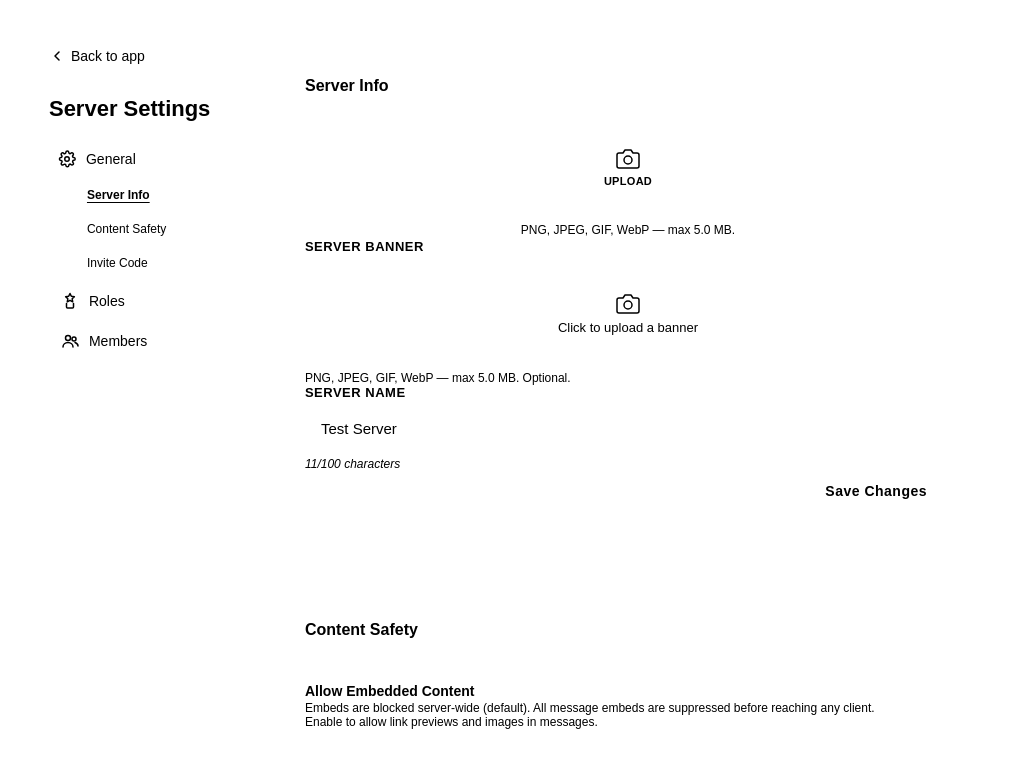
Test case: "Set up verification" from the save dialog › asks to discard unsaved edits first, with the dialog still up behind the question
The width and height of the screenshot is (1024, 768).
Replace the text in the field with placeholder "My Awesome Server" with "Renamed Server" at {"x": 644, "y": 429}, box x1=305 y1=408 x2=983 y2=449
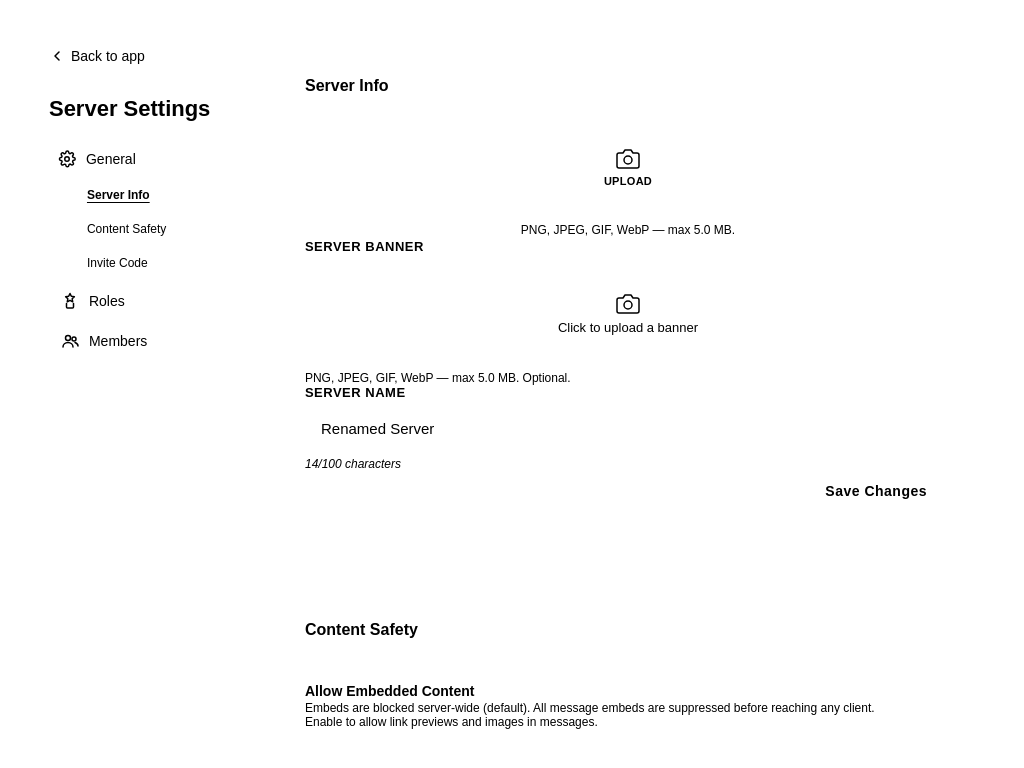
Click the button "Save Changes" at {"x": 876, "y": 491}, box x1=801 y1=471 x2=951 y2=511
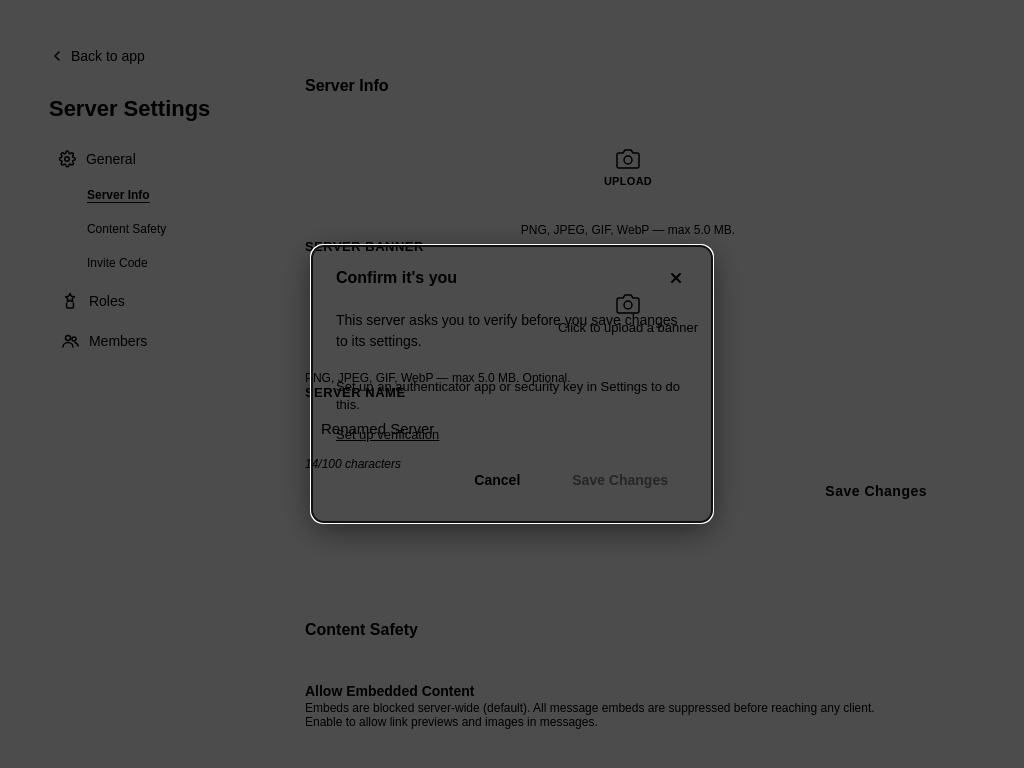
Check: the text "Set up an authenticator app or security key in Settings to do this." is shown, box x1=336 y1=378 x2=688 y2=414
Click the button "Set up verification" at {"x": 388, "y": 434}, box x1=336 y1=422 x2=439 y2=446
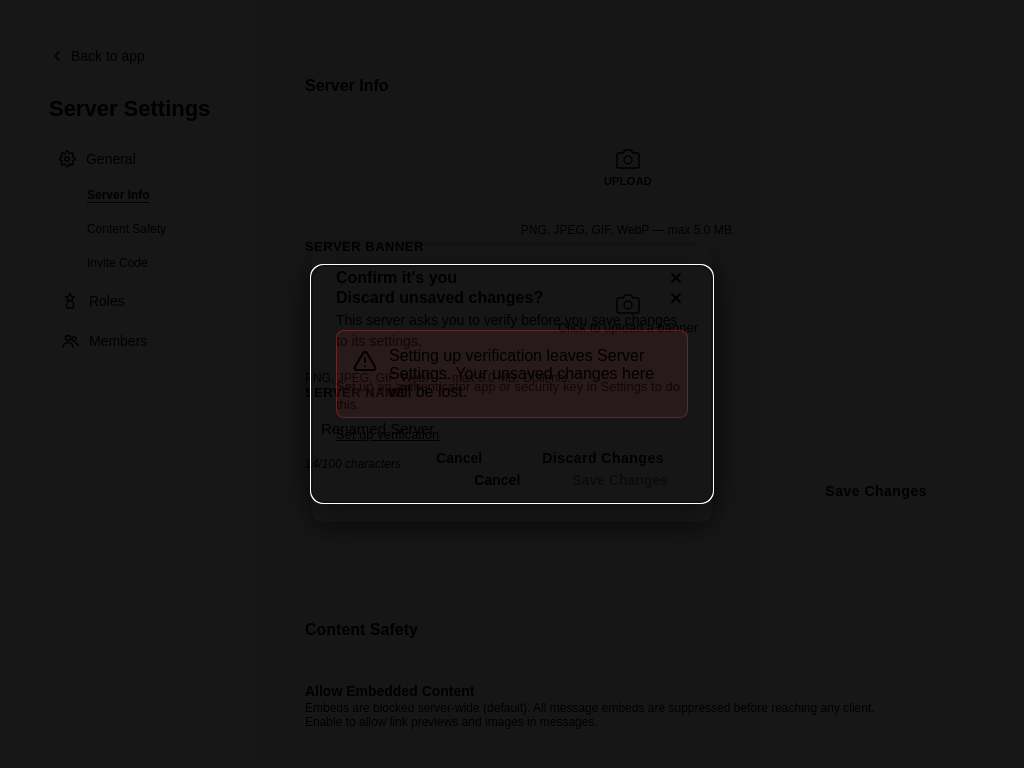
Check: the dialog "Discard unsaved changes?" is shown, box x1=312 y1=266 x2=712 y2=502
